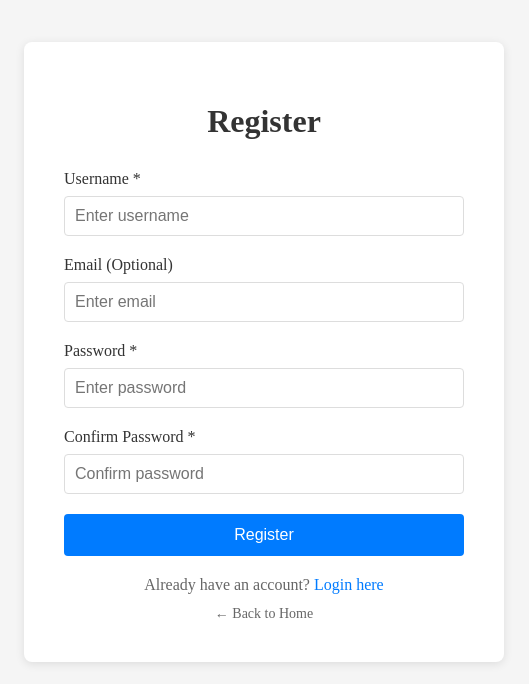
Scenario: Frontend Tests › Register Page › should validate username format
In the field with placeholder "Enter username": (264, 216) [64,196,464,236], type "ab"
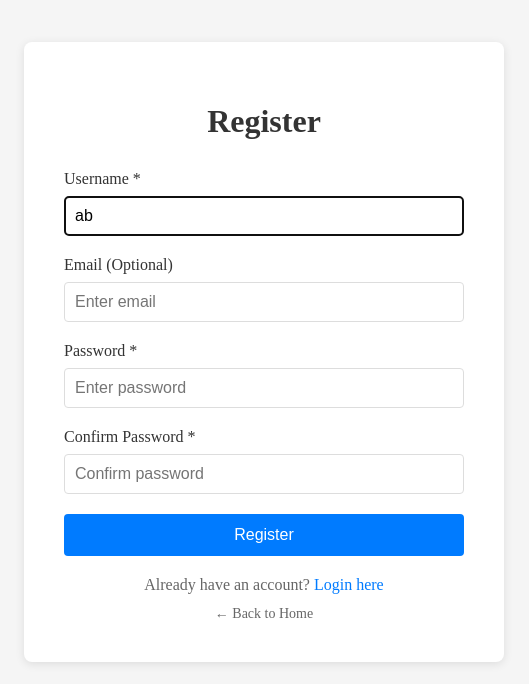
Click the button "Register": click(264, 535) [64,514,464,556]
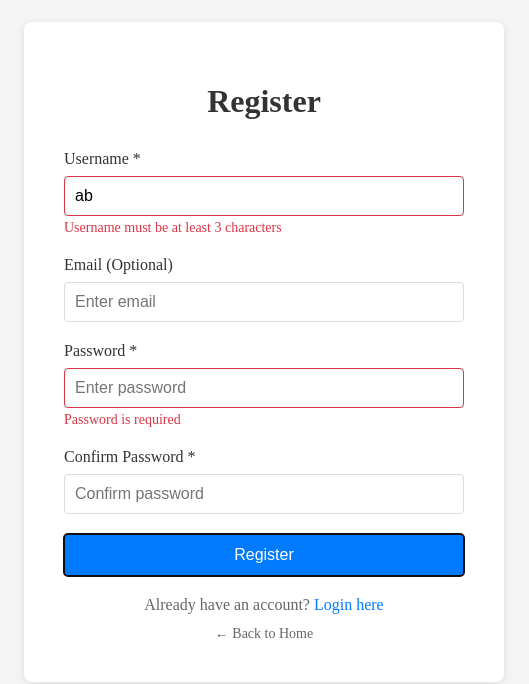
Result: the text "Username must be at least 3 characters" is shown at [64,220,282,235]
